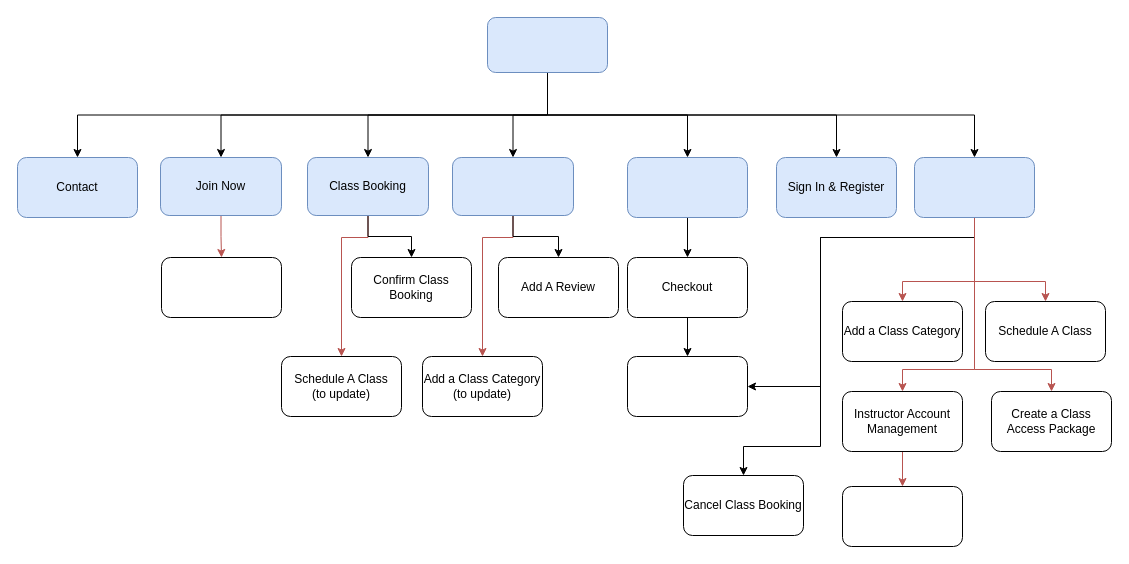
Image size: 1129x564. Some labels were removed from this diagram. Each missing label, with the centre of its shape:
"Add A New Instructor" goes at (902,516).
"Create A Class Package (to update)" goes at (221,287).
"Home" goes at (547,44).
"My Account" goes at (974,187).
"Order Confirmation / Order Review" goes at (687,386).
"Our Classes" goes at (513,186).
"Shopping Bag" goes at (687,187).
